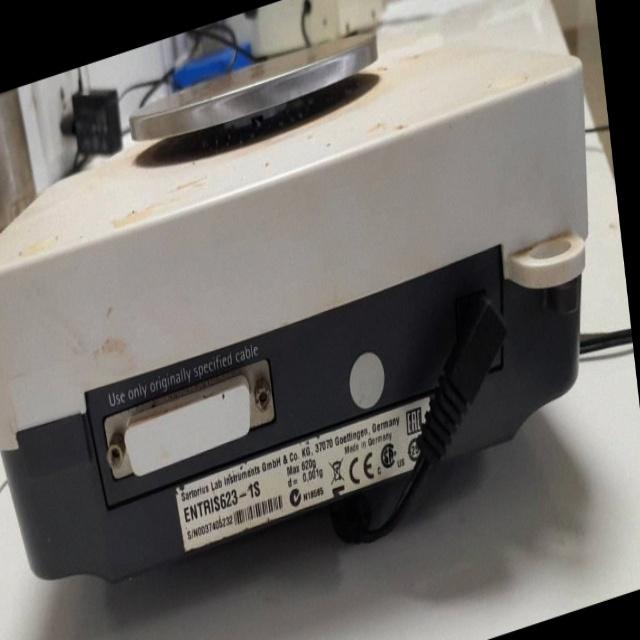Electronic balance: (0, 0, 616, 639)
